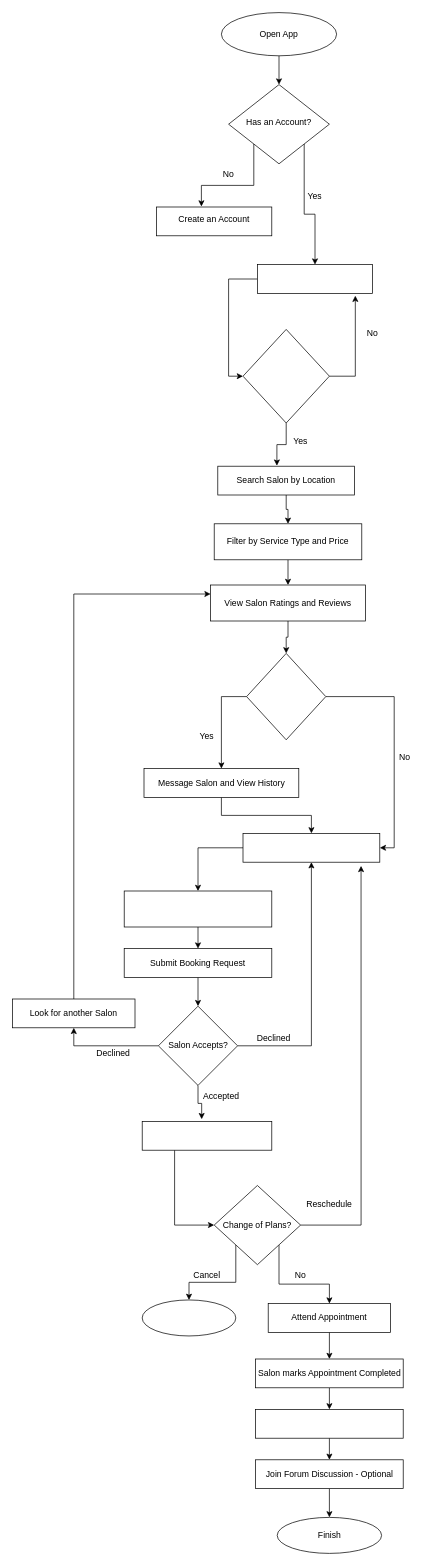
This 439x1566 diagram has some shape labels left out. The centre of each missing label's shape, as x and y in pixels:
Booking Cancelled: pixel 188 1317
Choose Service and Time Slots: pixel 197 908
Credentials Valid?: pixel 285 376
Leave Rating and Review - Optional: pixel 329 1423
Log In: pixel 315 278
Questions for the Salon?: pixel 286 696
Receive Booking Confirmation: pixel 206 1135
View Availability Slots: pixel 311 847
